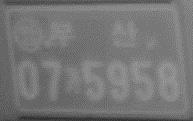0: (15, 59, 40, 100)
5: (131, 59, 156, 103), (82, 59, 105, 102)
7: (38, 58, 64, 104)
8: (156, 61, 181, 103)
9: (105, 60, 132, 104)
가: (63, 67, 83, 97)
부산_D: (48, 17, 140, 50)
영: (12, 17, 45, 53)
